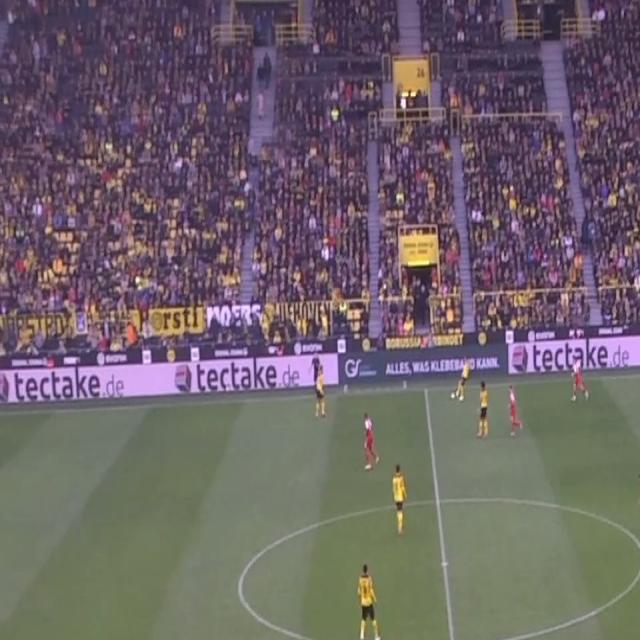ball: (450, 390, 456, 401)
